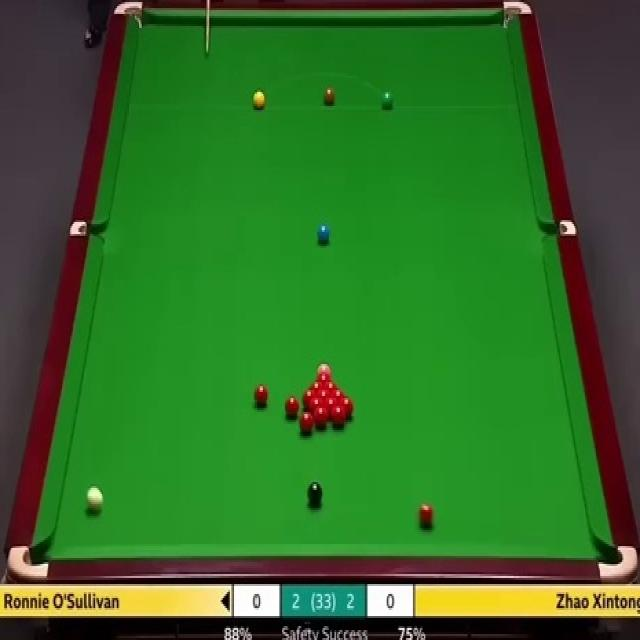black-ball: (307, 480, 323, 502)
blue-ball: (316, 225, 331, 242)
brown-ball: (323, 88, 335, 107)
green-ball: (380, 88, 395, 110)
pink-ball: (317, 364, 332, 378)
red-ball: (417, 501, 434, 526), (329, 407, 347, 428), (316, 405, 331, 427), (300, 410, 313, 435), (253, 385, 269, 405), (337, 397, 352, 418), (284, 397, 298, 417), (325, 398, 338, 419), (304, 389, 315, 401), (318, 390, 329, 402), (318, 375, 328, 387)
white-ball: (84, 486, 105, 514)
yellow-ball: (253, 90, 265, 110)
